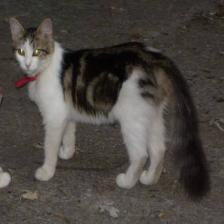cat: (6, 10, 66, 79)
